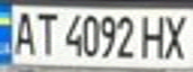0: (78, 11, 100, 58)
2: (115, 11, 139, 60)
4: (60, 10, 84, 57)
9: (97, 11, 118, 60)
A: (9, 7, 39, 56)
H: (139, 11, 172, 60)
T: (33, 9, 60, 57)
X: (160, 11, 193, 61)
